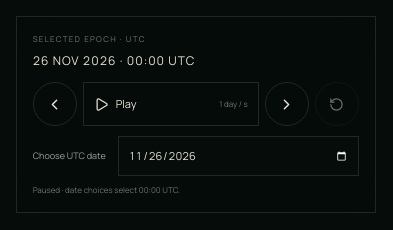
Test case: Solar System date control › keeps an invalid draft visible and recovers when the unchanged epoch is reselected
Type "1999-12-31" into the date field labelled "Choose UTC date" at [238, 156], box [118,136,359,176]
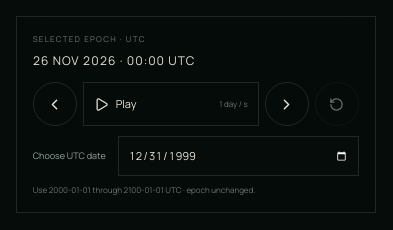
Type "2026-11-26" into the date field labelled "Choose UTC date" at [238, 156], box [118,136,359,176]
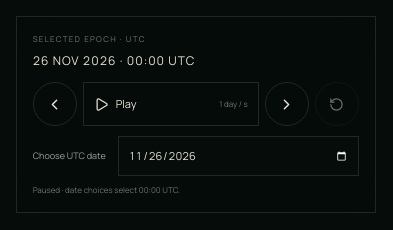
Now the text "Paused · date choices select 00:00 UTC." is shown, box [33,184,180,195]
